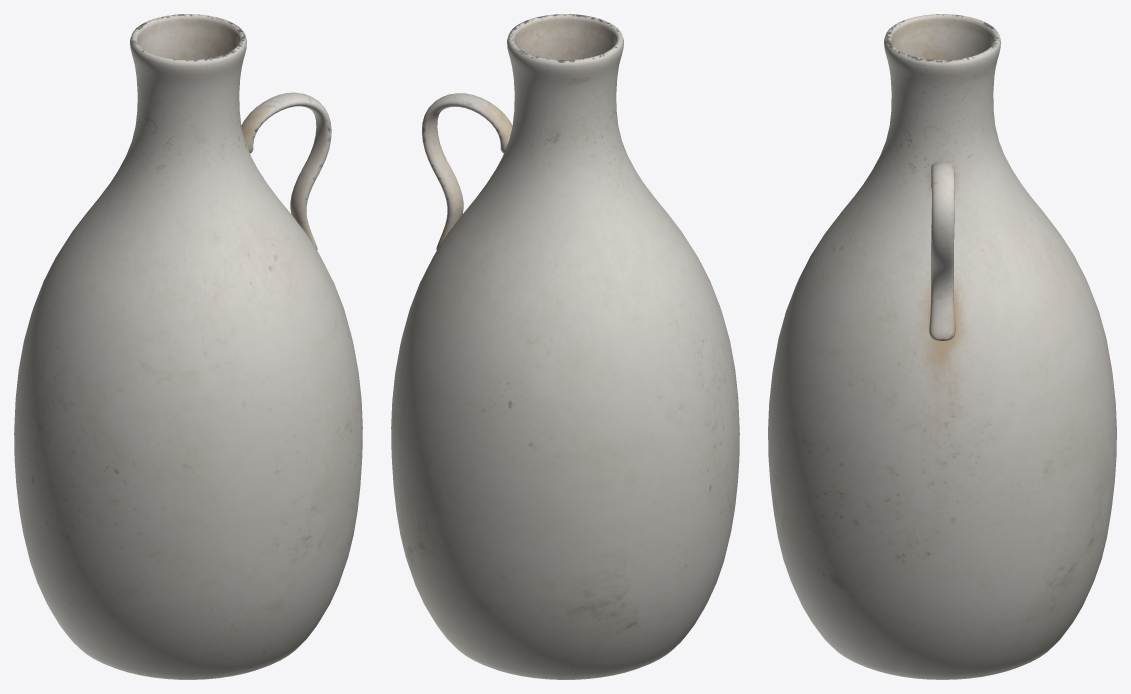
The model's file is ceramic_vase_04_4k.gltf.
The picture shows the model from 3 angles, left to right: view 1: azimuth 30°, elevation 25°; view 2: azimuth 150°, elevation 25°; view 3: azimuth 270°, elevation 25°; orthographic projection.
Parts seen in each view (by area): view 1: ceramic_vase_04; view 2: ceramic_vase_04; view 3: ceramic_vase_04.
Boxes of the visible parts, x1,y1,x2,y2 form: ceramic_vase_04: (14,14,362,679); ceramic_vase_04: (391,14,739,679); ceramic_vase_04: (768,14,1116,679).
Bounding box in the file's own units: 0.1811 × 0.3419 × 0.1811.
Materials: 1 (1 with a texture image).
